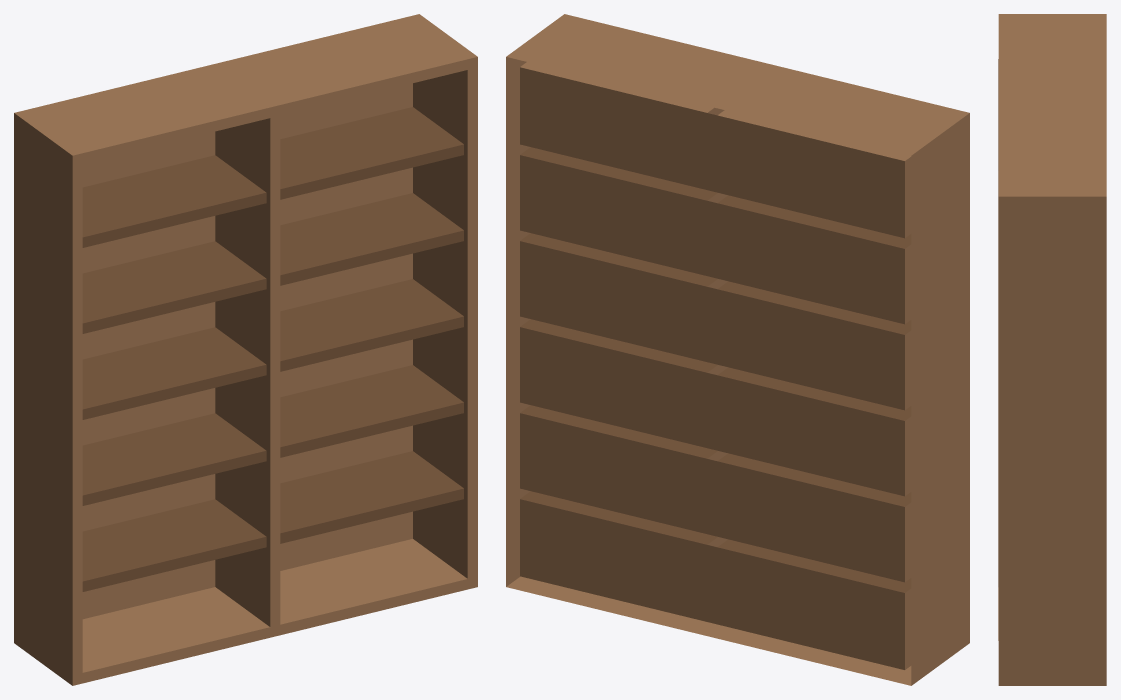
Rendered from Int_LibraryShelf02_2.fbx.
The picture shows the model from 3 angles, left to right: view 1: azimuth 30°, elevation 25°; view 2: azimuth 150°, elevation 25°; view 3: azimuth 270°, elevation 25°; orthographic projection. The views are drawn at different scales.
Parts seen in each view (by area): view 1: Int_LibraryShelf02_2; view 2: Int_LibraryShelf02_2; view 3: Int_LibraryShelf02_2.
Boxes of the visible parts, x1,y1,x2,y2 form: Int_LibraryShelf02_2: (14, 14, 477, 685); Int_LibraryShelf02_2: (506, 14, 969, 685); Int_LibraryShelf02_2: (998, 14, 1106, 685).
Size of what is drawn, in the model's own units: 200 by 50.01 by 250.
